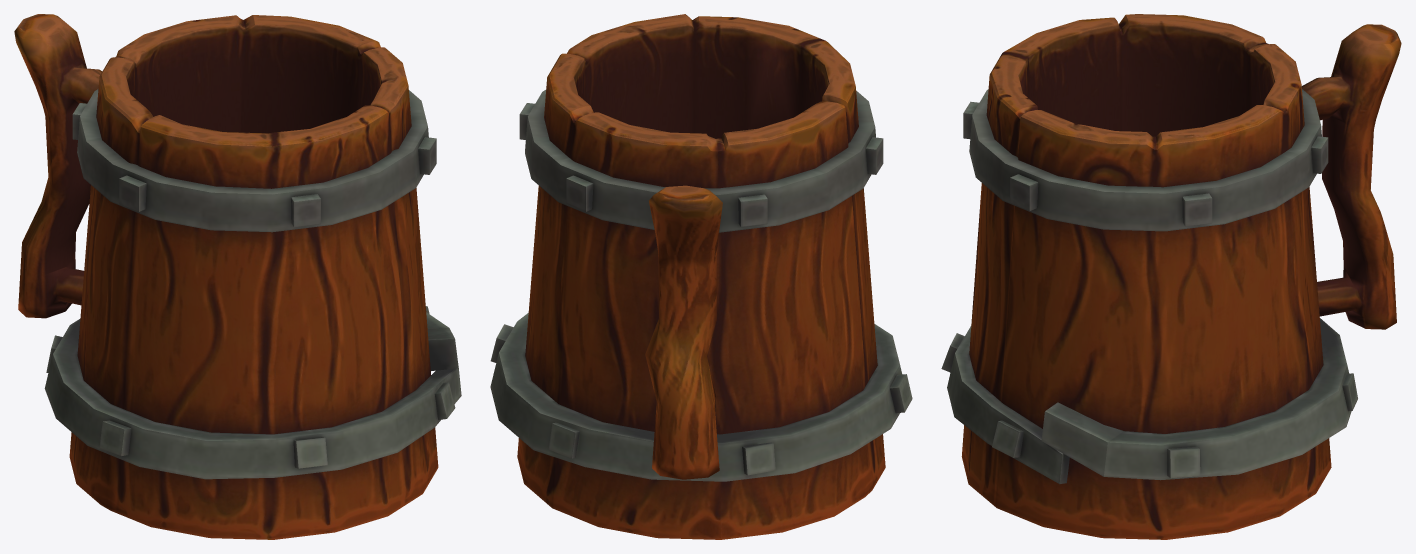
Rendered from Bottle.fbx.
3 renders of one model, left to right at view 1: azimuth 30°, elevation 25°; view 2: azimuth 150°, elevation 25°; view 3: azimuth 270°, elevation 25°, orthographic.
Parts seen in each view (by area): view 1: base_low, rim_02_low, rim_01_low, handle_low, rim_details_low; view 2: base_low, rim_02_low, handle_low, rim_01_low, rim_details_low; view 3: base_low, rim_02_low, handle_low, rim_01_low, rim_details_low.
Part boxes in pixels (<box>): base_low: <box>69,15,438,539</box>; rim_02_low: <box>44,312,461,479</box>; rim_01_low: <box>77,89,428,232</box>; handle_low: <box>14,14,102,318</box>; rim_details_low: <box>46,103,455,468</box>; base_low: <box>517,14,885,539</box>; rim_02_low: <box>490,313,901,481</box>; handle_low: <box>645,185,722,479</box>; rim_01_low: <box>525,89,875,232</box>; rim_details_low: <box>490,103,912,475</box>; base_low: <box>961,14,1331,539</box>; rim_02_low: <box>947,318,1351,484</box>; handle_low: <box>1301,24,1401,329</box>; rim_01_low: <box>969,89,1321,231</box>; rim_details_low: <box>941,101,1357,478</box>.
Size of the model in its own units: 276 by 275 by 297.
